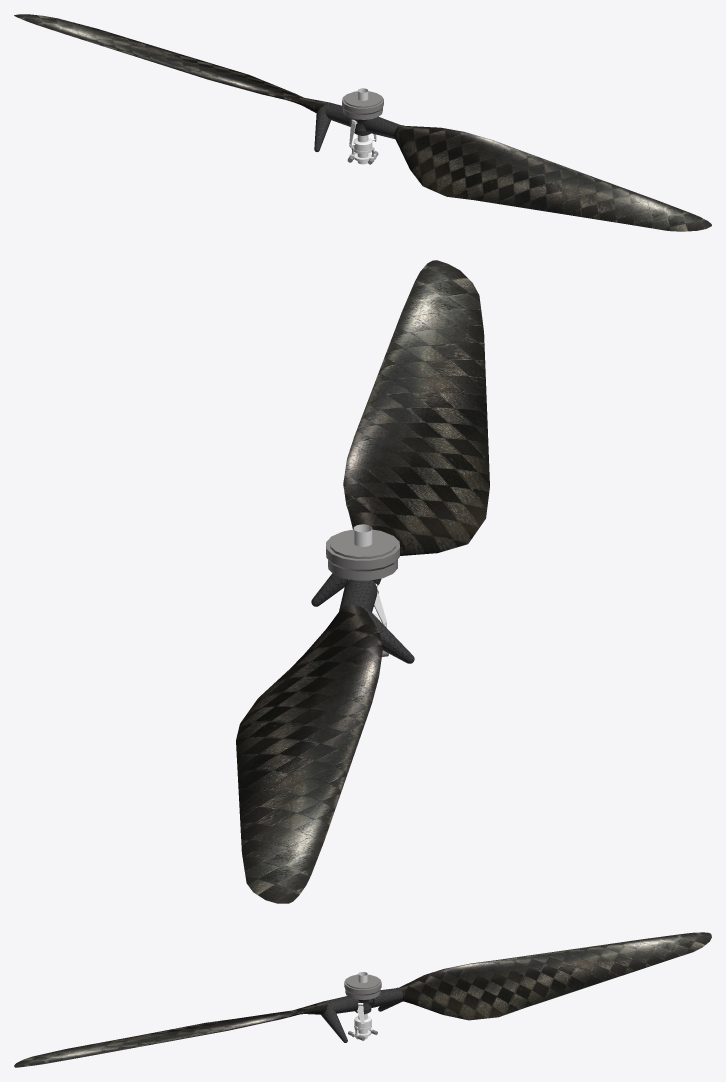
File: rotor_blade_top.dae
3 renders of one model, top to bottom at view 1: azimuth 30°, elevation 25°; view 2: azimuth 150°, elevation 25°; view 3: azimuth 270°, elevation 25°, orthographic. The views are drawn at different scales.
Visible parts, largest first — view 1: rotor_top; view 2: rotor_top; view 3: rotor_top.
Part boxes in pixels (<box>): rotor_top: <box>14,14,711,231</box>; rotor_top: <box>236,260,489,903</box>; rotor_top: <box>14,932,711,1067</box>.
Bounding box in the file's own units: 0.5055 × 1.11 × 0.1117.
Materials: 5 (2 with a texture image).
